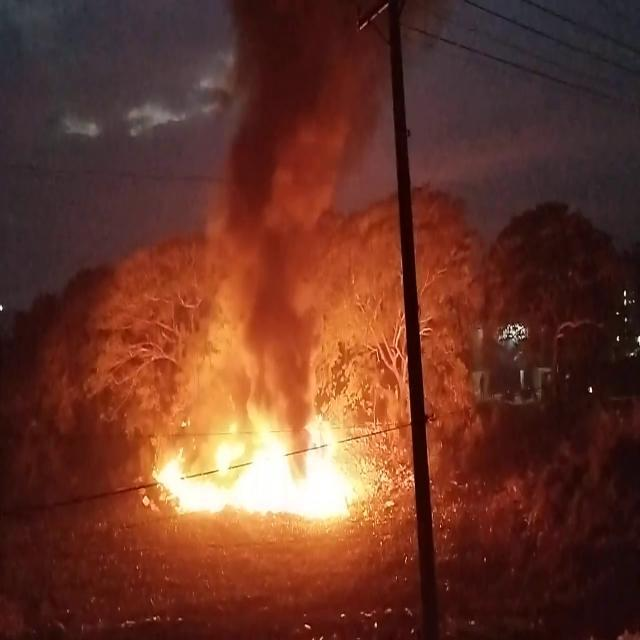Fire: (140, 382, 390, 530)
Smoke: (173, 0, 384, 362)
